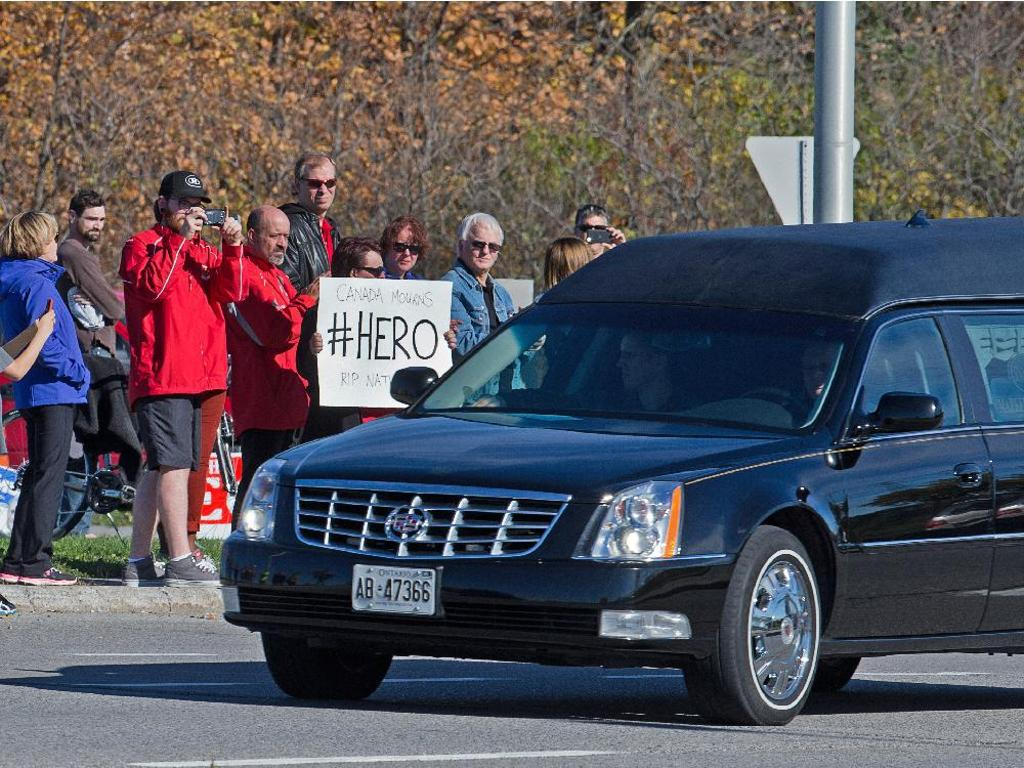face: (617, 339, 657, 390), (256, 215, 290, 264), (465, 223, 499, 270), (804, 351, 836, 397), (302, 169, 336, 210), (358, 252, 385, 301), (167, 195, 201, 232), (390, 229, 419, 272), (78, 206, 106, 242), (579, 217, 606, 253), (39, 227, 58, 262)
